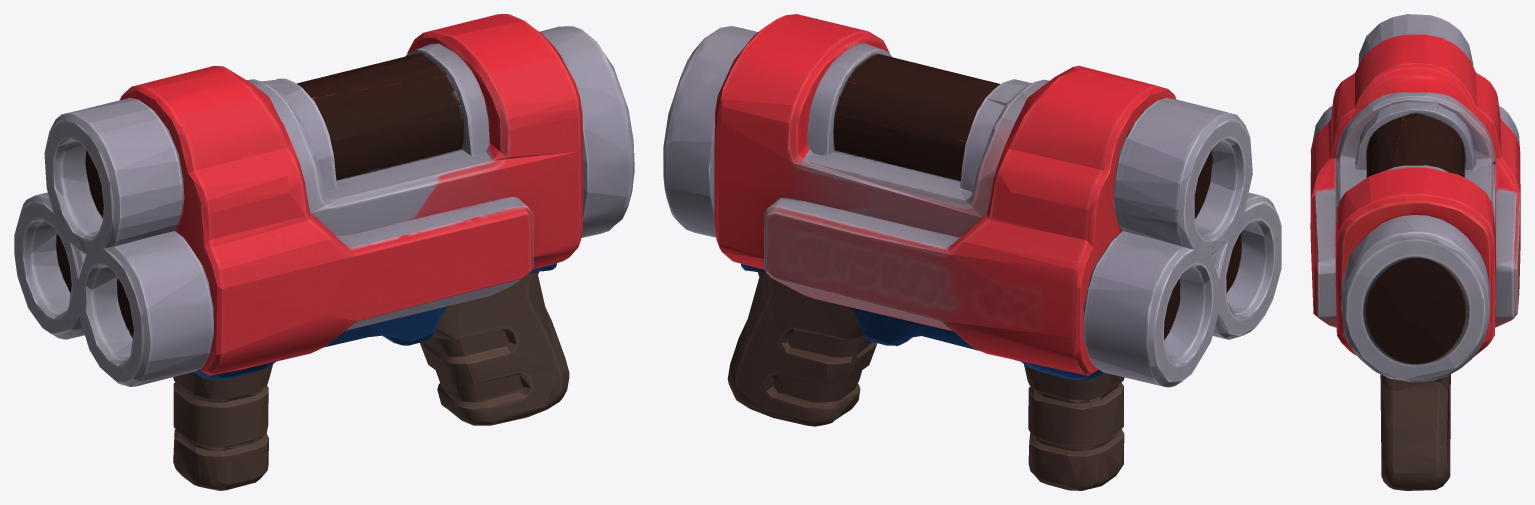
The model's file is brocken_waffe_reduziert.glb.
3 renders of one model, left to right at view 1: azimuth 30°, elevation 25°; view 2: azimuth 150°, elevation 25°; view 3: azimuth 270°, elevation 25°, orthographic. The views are drawn at different scales.
Visible parts, largest first — view 1: output_unwrapped; view 2: output_unwrapped; view 3: output_unwrapped.
Part boxes in pixels (<box>): output_unwrapped: <box>14,14,634,490</box>; output_unwrapped: <box>663,14,1281,490</box>; output_unwrapped: <box>1310,14,1520,490</box>.
Size of the model in its own units: 1.9 by 1.41 by 0.858.
Materials: 1 (1 with a texture image).
